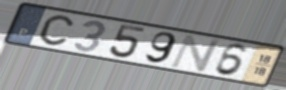3: (72, 19, 109, 53)
5: (109, 24, 148, 60)
6: (213, 42, 250, 78)
9: (144, 31, 178, 65)
C: (37, 14, 75, 48)
N: (168, 34, 224, 73)
